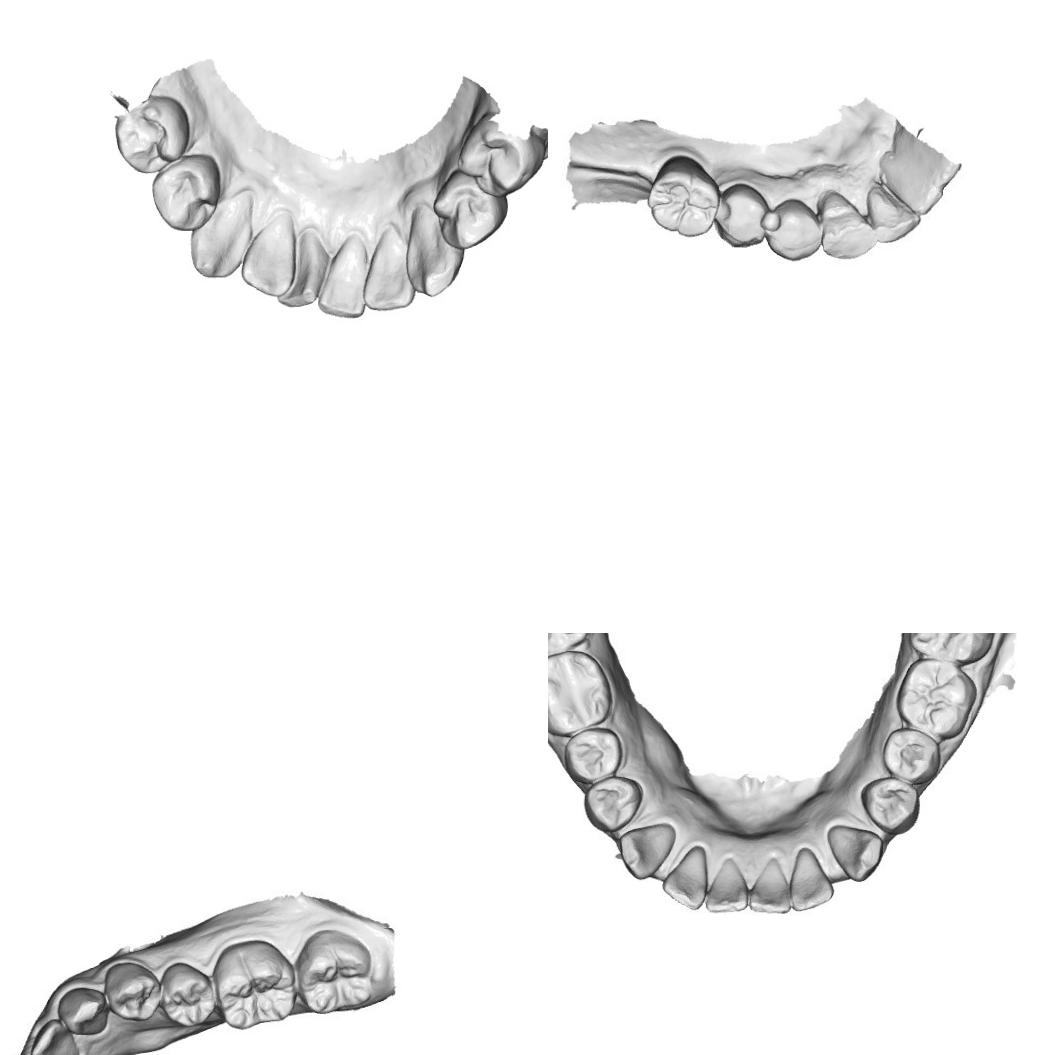canine: (188, 196, 254, 282), (403, 208, 464, 297), (816, 190, 875, 261), (828, 822, 888, 881), (618, 820, 672, 882), (56, 985, 111, 1037)
incisor: (361, 230, 416, 314), (240, 219, 292, 298), (317, 243, 370, 318), (276, 228, 325, 306), (866, 183, 922, 244), (660, 845, 706, 913), (790, 845, 834, 916), (750, 854, 794, 916), (704, 854, 747, 916), (29, 1017, 85, 1055)
molar: (215, 938, 298, 1028), (896, 652, 978, 736), (298, 930, 374, 1014), (548, 648, 614, 731), (647, 160, 718, 235), (910, 633, 999, 660)
premolar: (457, 121, 542, 198), (113, 97, 192, 173), (431, 170, 506, 250), (150, 156, 221, 232), (562, 724, 628, 784), (101, 956, 158, 1024), (582, 774, 646, 829), (765, 202, 821, 262), (862, 776, 922, 832), (884, 727, 941, 785), (164, 962, 215, 1024), (719, 184, 768, 248)
